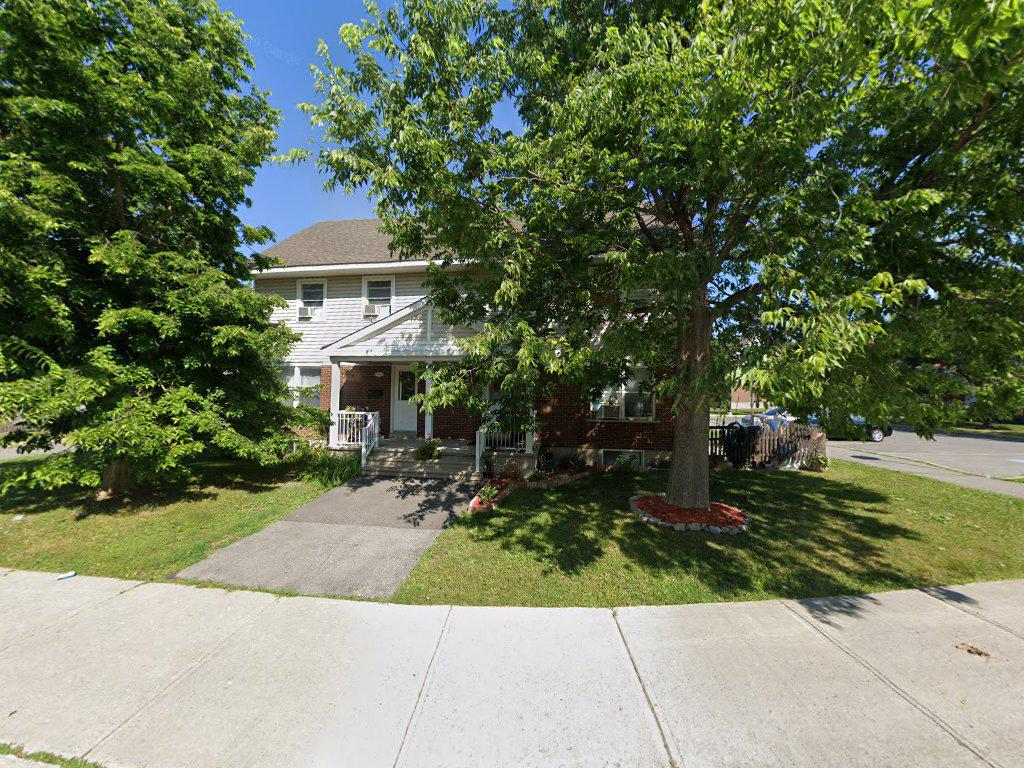trunk: (669, 302, 710, 518)
